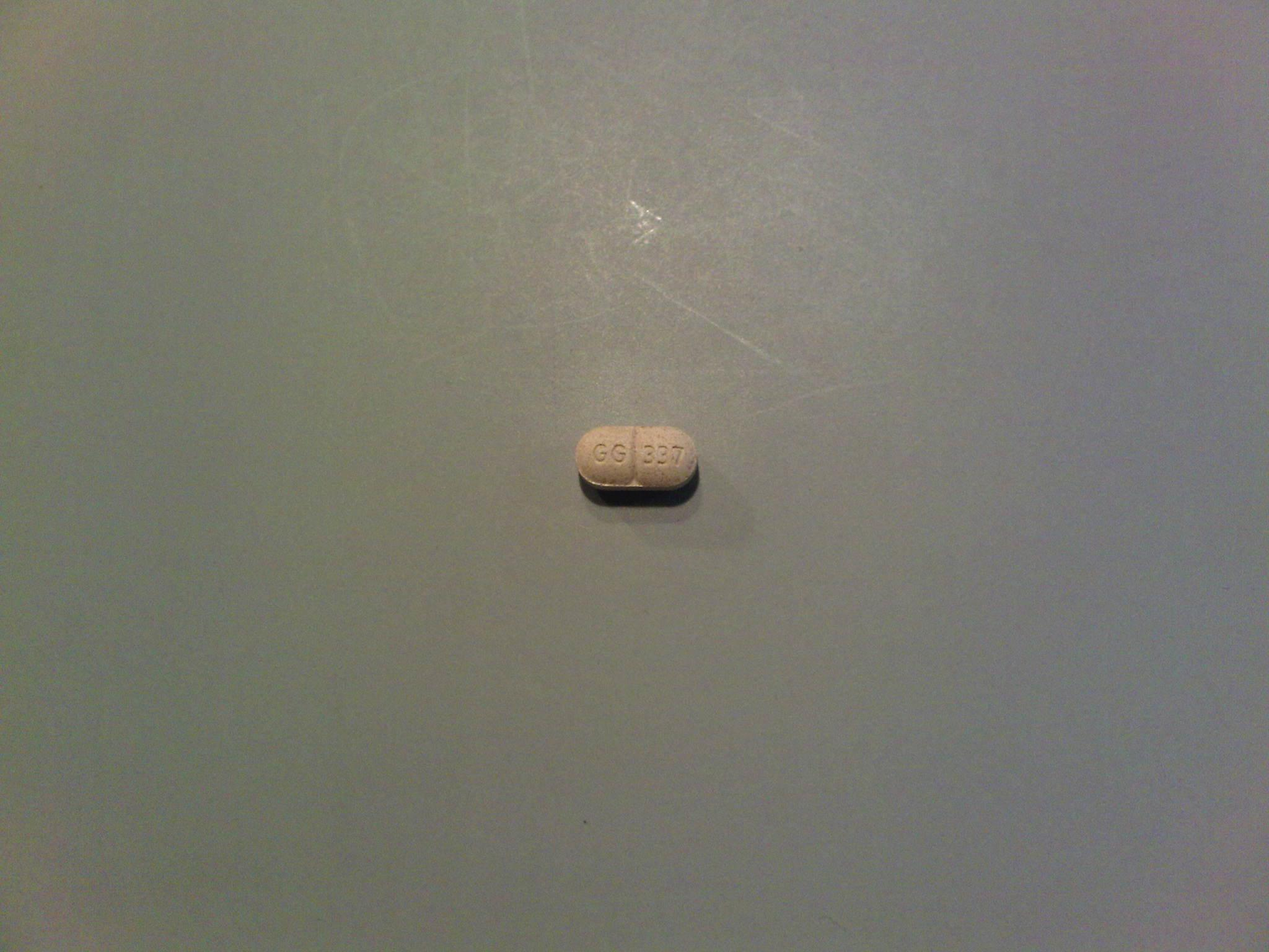Pill: (572, 421, 705, 502)
